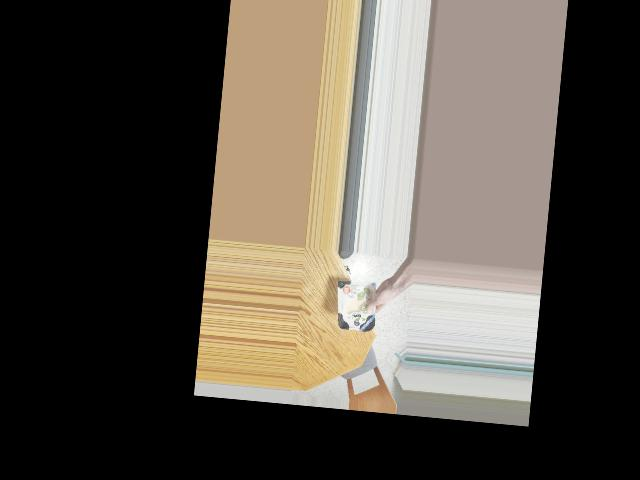cheese: (333, 270, 377, 340)
